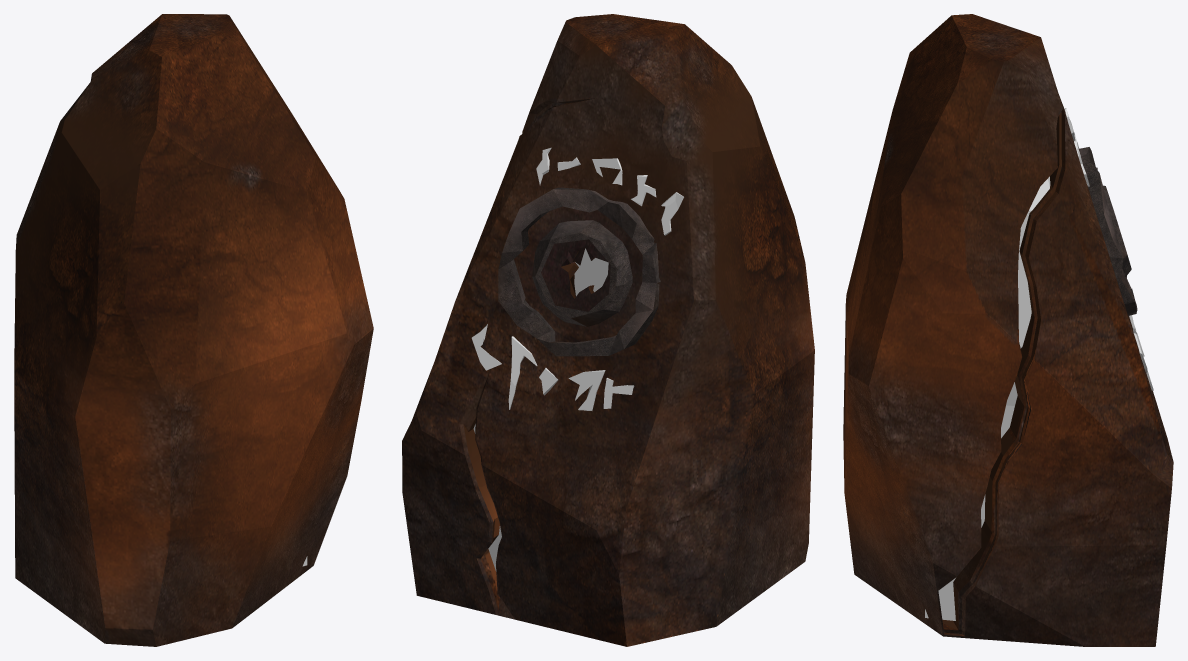
Rendered from runeRock.glb.
The picture shows the model from 3 angles, left to right: view 1: azimuth 30°, elevation 25°; view 2: azimuth 150°, elevation 25°; view 3: azimuth 270°, elevation 25°; orthographic projection.
Parts seen in each view (by area): view 1: stone; view 2: stone, circ, words; view 3: stone, words, circ.
Boxes of the visible parts, x1=… form: stone: x1=14, y1=14, x2=373, y2=646; stone: x1=402, y1=14, x2=814, y2=646; circ: x1=498, y1=187, x2=660, y2=356; words: x1=471, y1=147, x2=683, y2=571; stone: x1=843, y1=14, x2=1173, y2=646; words: x1=925, y1=108, x2=1153, y2=620; circ: x1=1078, y1=147, x2=1137, y2=315.
Size of the model in its own units: 2.52 by 4.56 by 2.49.
Materials: 2 (2 with a texture image).
